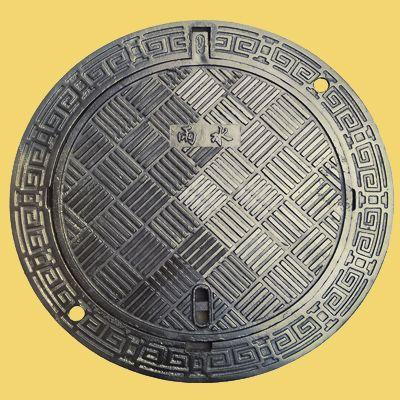wellcover: (11, 20, 377, 386)
